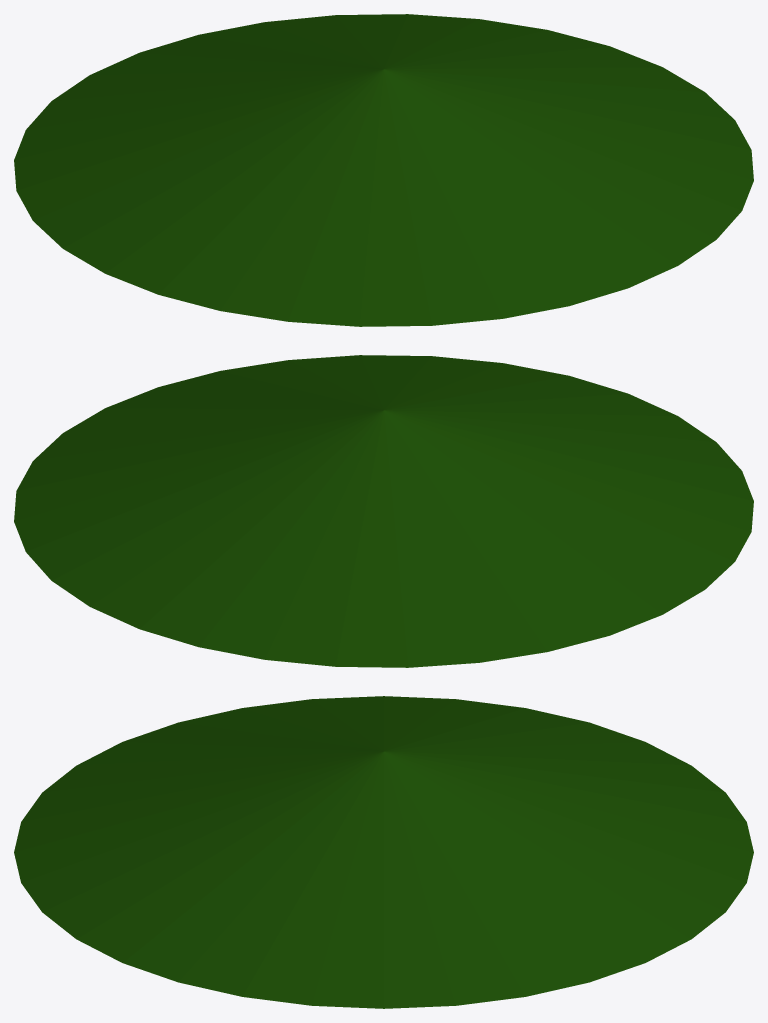
The model's file is Lamp.fbx.
The picture shows the model from 3 angles, top to bottom: view 1: azimuth 30°, elevation 25°; view 2: azimuth 150°, elevation 25°; view 3: azimuth 270°, elevation 25°; orthographic projection.
Visible parts, largest first — view 1: Cube; view 2: Cube; view 3: Cube.
Boxes of the visible parts, box(x1,y1,x2,y2) form: Cube: box(14, 14, 753, 326); Cube: box(14, 355, 753, 667); Cube: box(14, 696, 753, 1008).
Size of the model in its own units: 651 by 159 by 651.
